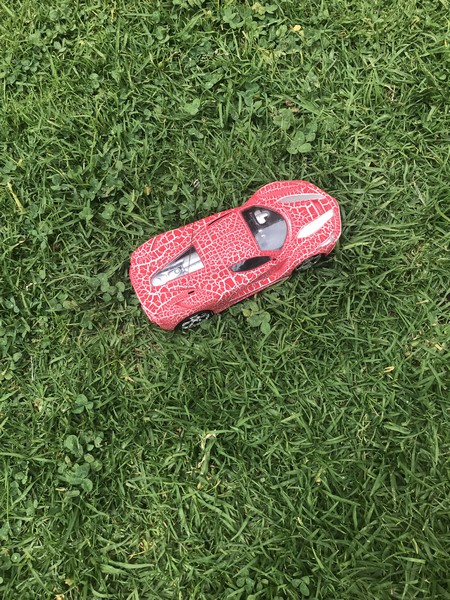RC: (128, 178, 344, 335)
